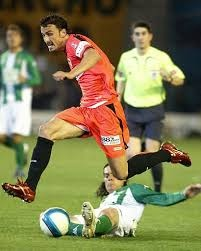falling: (49, 160, 201, 242)
